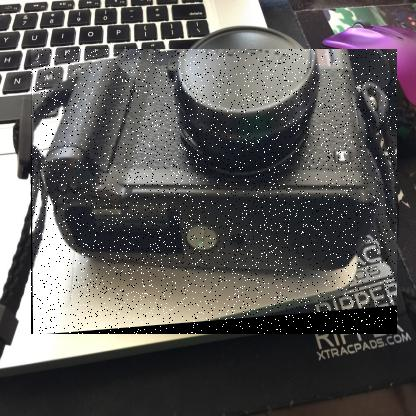Camera: (32, 50, 399, 336)
